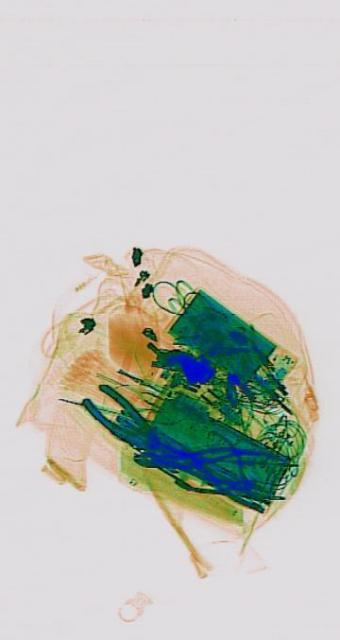Pliers: (79, 367, 170, 475), (132, 436, 275, 492)
